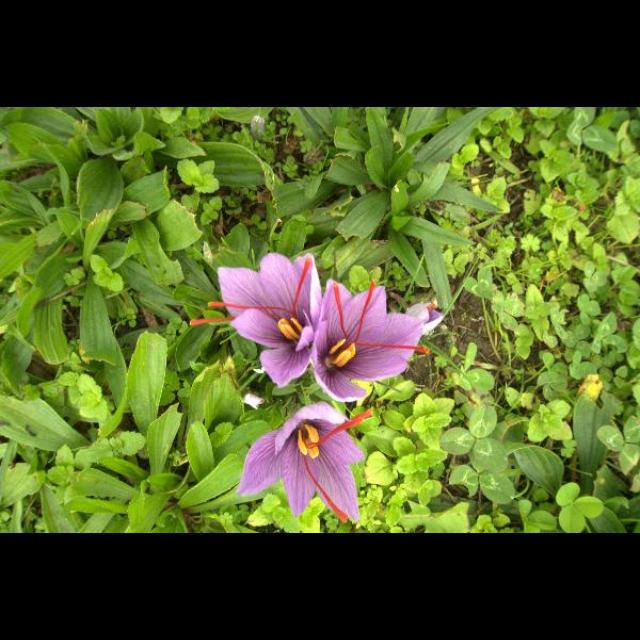flower: (190, 253, 322, 401), (238, 402, 374, 524), (312, 280, 430, 402), (406, 302, 446, 334)
